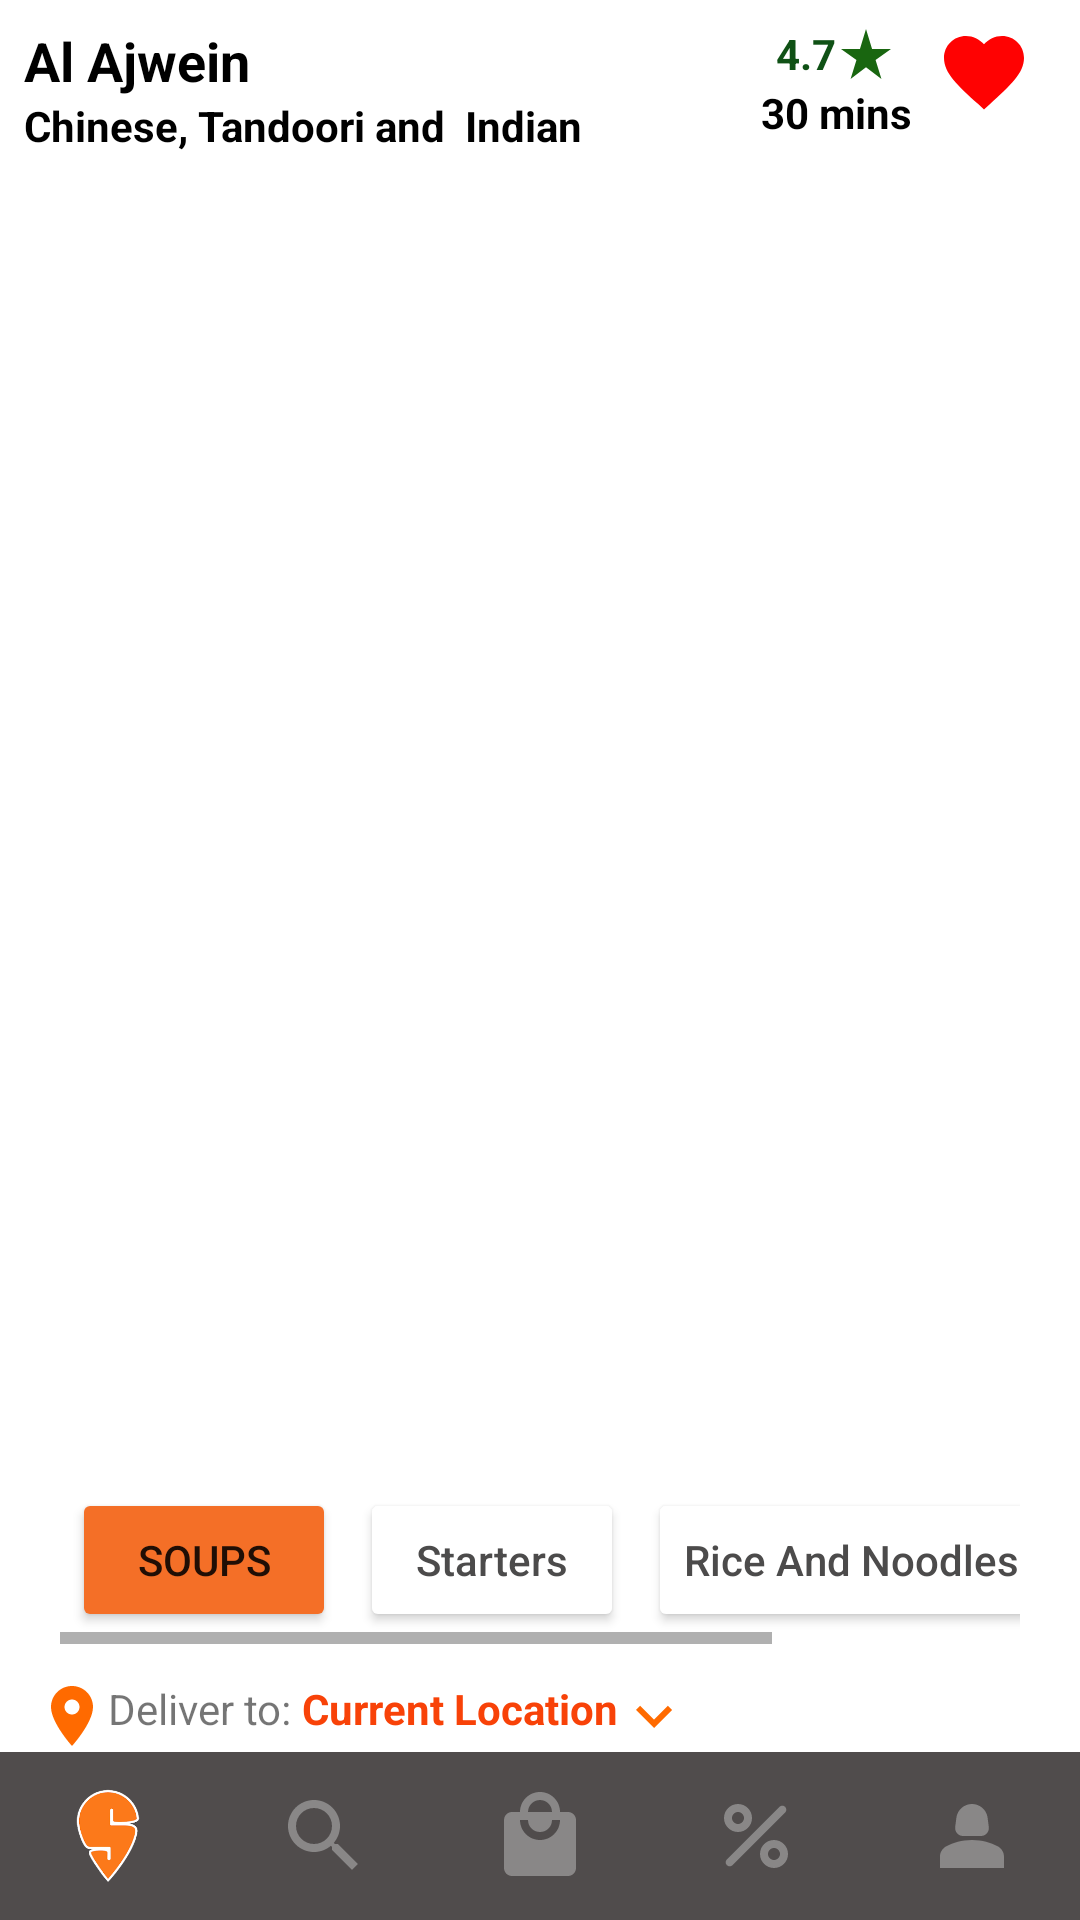

Where to tap for icons on this 1080 × 1920 app screen, as (x,y):
favorite: (984,73)
keyboard arrow down: (654,1717)
local mall: (540,1834)
location on: (72,1716)
percent: (756,1836)
person: (972,1836)
search: (322,1834)
star rate: (866,54)
